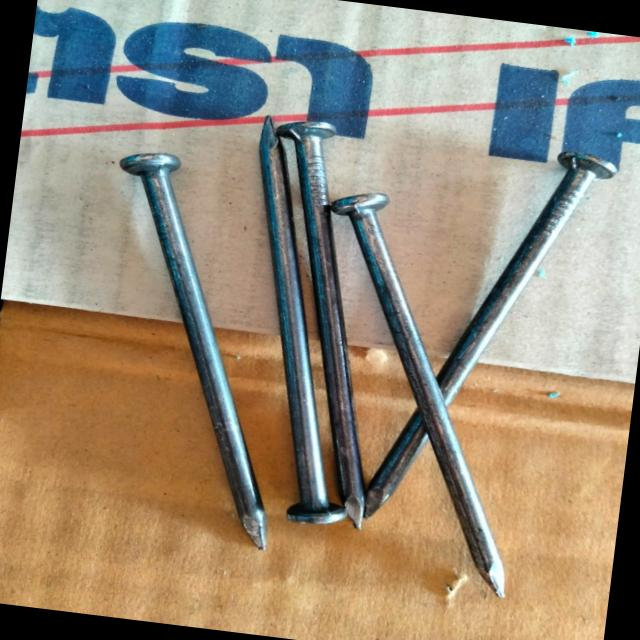3x8 nail: (290, 112, 640, 627), (48, 79, 350, 559)
